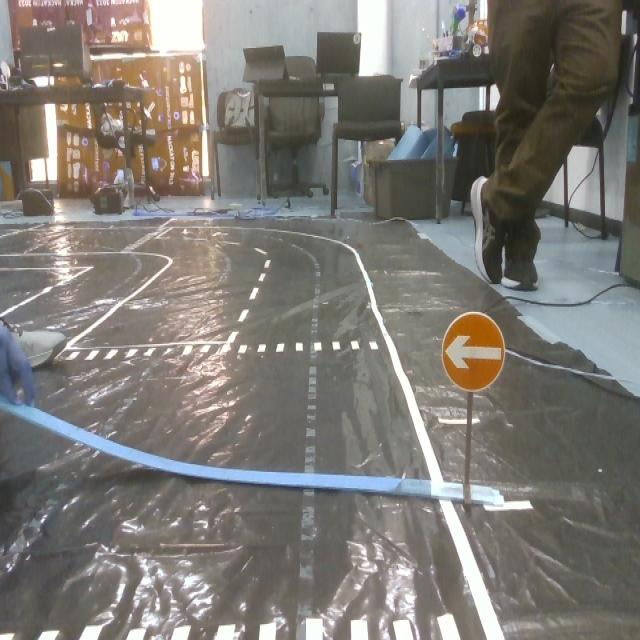forward: (438, 307, 509, 393)
